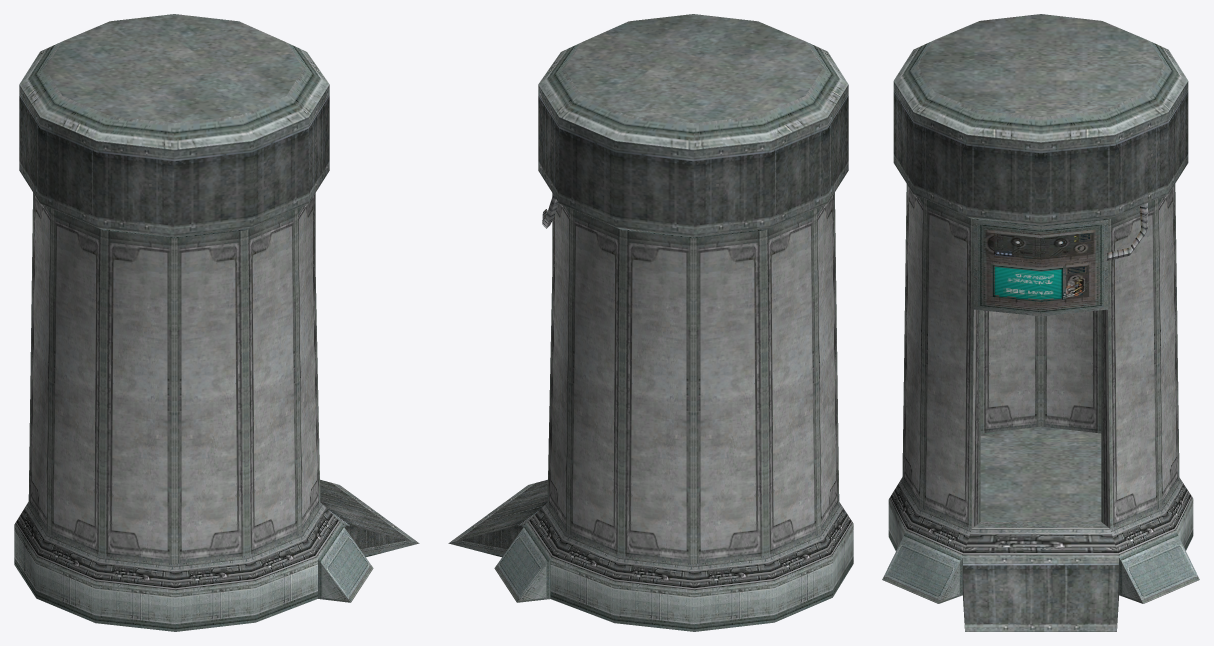
Rendered from eqp_cloning_tube_l1.fbx.
3 renders of one model, left to right at view 1: azimuth 30°, elevation 25°; view 2: azimuth 150°, elevation 25°; view 3: azimuth 270°, elevation 25°, orthographic. The views are drawn at different scales.
Visible parts, largest first — view 1: mesh_node; view 2: mesh_node; view 3: mesh_node.
Boxes of the visible parts, x1=… form: mesh_node: x1=14, y1=14, x2=419, y2=631; mesh_node: x1=448, y1=14, x2=853, y2=631; mesh_node: x1=882, y1=14, x2=1199, y2=631.
Bounding box in the file's own units: 4.12 × 5.68 × 3.47.
